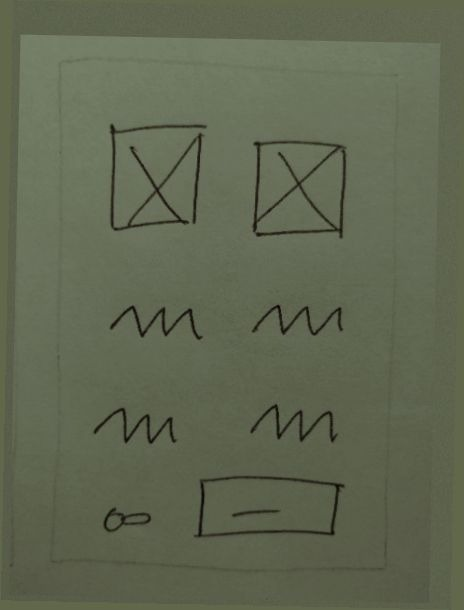button: (186, 465, 350, 551)
image: (95, 113, 218, 235), (238, 126, 356, 246)
switch: (89, 494, 164, 542)
text: (236, 388, 347, 457), (241, 288, 351, 355), (98, 289, 209, 353), (79, 392, 188, 454)
